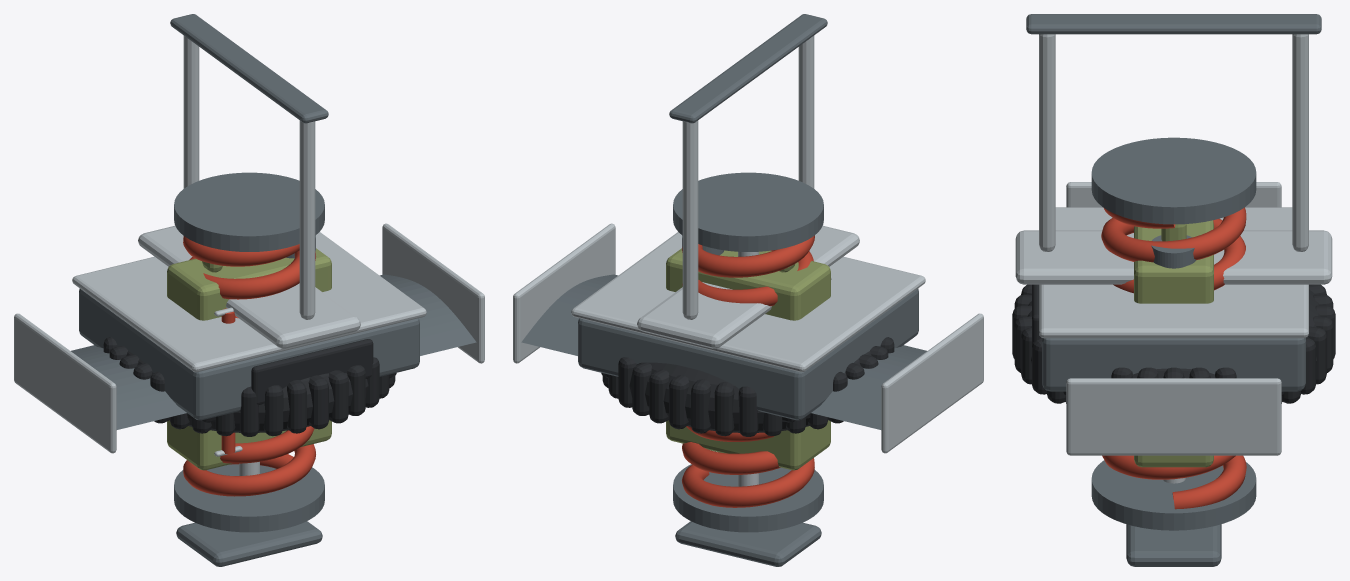
Rendered from tunnel-parts.glb.
3 views of the same model, side by side, from view 1: azimuth 30°, elevation 25°; view 2: azimuth 150°, elevation 25°; view 3: azimuth 270°, elevation 25° (orthographic). The views are drawn at different scales.
Parts seen in each view (by area): view 1: Stainless weighing tray, Weighing scale case, Spring seat.001, Steel coil, Wing endplate, Jerry can body, Wing aerofoil, Spring seat, Wing balance foot, Wing endplate.001, Wing support saddle, Dial foot (+10 smaller); view 2: Stainless weighing tray, Weighing scale case, Steel coil, Spring seat.001, Jerry can body, Wing endplate, Wing aerofoil, Wing balance foot, Spring seat, Wing endplate.001, Wing support saddle, Dial foot (+10 smaller); view 3: Wing endplate.001, Stainless weighing tray, Spring seat.001, Wing balance foot, Weighing scale case, Steel coil, Spring seat, Wing support saddle, Jerry can body, Dial foot, Wing balance upright, Wing balance upright.001 (+10 smaller).
Part boxes in pixels (bbox=[...]): Stainless weighing tray: bbox=[72, 232, 426, 372]; Weighing scale case: bbox=[79, 288, 419, 420]; Spring seat.001: bbox=[174, 172, 324, 251]; Steel coil: bbox=[183, 236, 315, 496]; Wing endplate: bbox=[14, 313, 116, 453]; Jerry can body: bbox=[167, 248, 331, 470]; Wing aerofoil: bbox=[71, 274, 476, 429]; Spring seat: bbox=[174, 464, 324, 532]; Wing balance foot: bbox=[138, 225, 360, 348]; Wing endplate.001: bbox=[382, 223, 484, 363]; Wing support saddle: bbox=[170, 14, 328, 123]; Dial foot: bbox=[176, 521, 322, 566]; Stainless weighing tray: bbox=[571, 232, 925, 372]; Weighing scale case: bbox=[578, 288, 918, 420]; Steel coil: bbox=[682, 235, 814, 507]; Spring seat.001: bbox=[673, 172, 823, 251]; Jerry can body: bbox=[666, 248, 830, 470]; Wing endplate: bbox=[881, 313, 983, 453]; Wing aerofoil: bbox=[521, 274, 926, 429]; Wing balance foot: bbox=[637, 225, 859, 348]; Spring seat: bbox=[673, 464, 823, 532]; Wing endplate.001: bbox=[513, 223, 615, 363]; Wing support saddle: bbox=[669, 14, 827, 123]; Dial foot: bbox=[675, 521, 821, 566]; Wing endplate.001: bbox=[1066, 378, 1281, 455]; Stainless weighing tray: bbox=[1039, 207, 1308, 338]; Spring seat.001: bbox=[1091, 137, 1256, 224]; Wing balance foot: bbox=[1015, 230, 1332, 284]; Weighing scale case: bbox=[1042, 338, 1305, 391]; Steel coil: bbox=[1101, 207, 1246, 509]; Spring seat: bbox=[1091, 460, 1256, 530]; Wing support saddle: bbox=[1026, 14, 1321, 34]; Jerry can body: bbox=[1134, 220, 1213, 467]; Dial foot: bbox=[1126, 524, 1221, 566]; Wing balance upright: bbox=[1039, 34, 1055, 251]; Wing balance upright.001: bbox=[1292, 34, 1308, 251].
Size of the model in its own units: 2.24 by 2.72 by 1.53.
